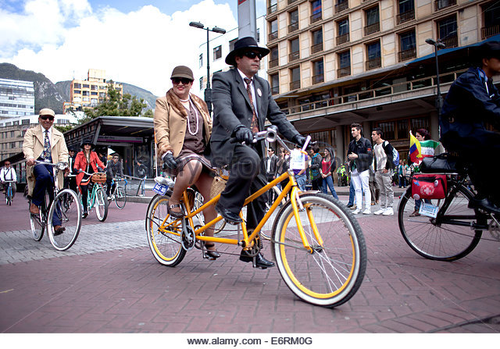bikerider: (145, 35, 388, 314), (396, 28, 500, 278), (21, 105, 81, 252), (70, 135, 112, 220), (103, 153, 133, 210), (1, 156, 27, 213)
